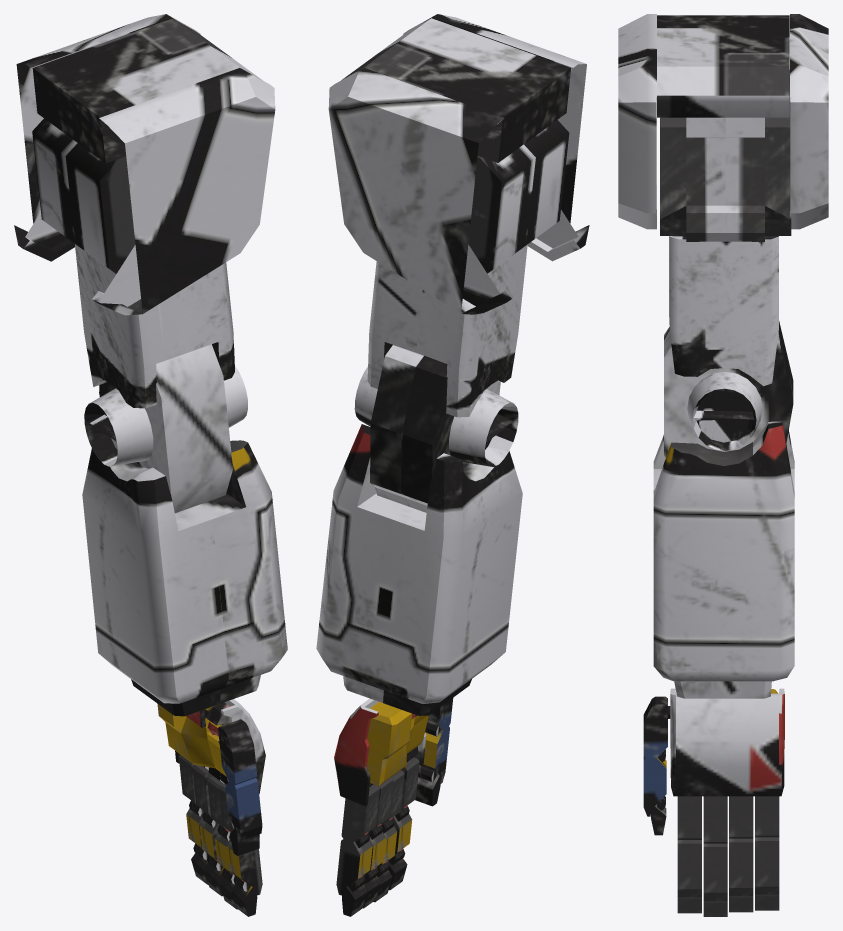
File: hand.obj
The picture shows the model from 3 angles, left to right: view 1: azimuth 30°, elevation 25°; view 2: azimuth 150°, elevation 25°; view 3: azimuth 270°, elevation 25°; orthographic projection. The views are drawn at different scales.
Parts seen in each view (by area): view 1: Gundam:polySurface666; view 2: Gundam:polySurface666; view 3: Gundam:polySurface666.
Boxes of the visible parts, x1,y1,x2,y2 form: Gundam:polySurface666: [14, 14, 287, 916]; Gundam:polySurface666: [316, 14, 589, 916]; Gundam:polySurface666: [618, 14, 828, 916].
Size of the model in its own units: 2.92 by 12.02 by 2.73.
